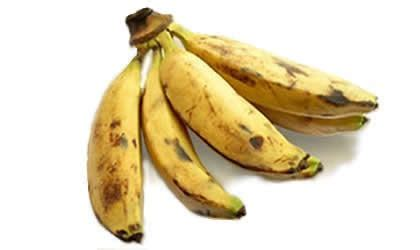banana: (156, 42, 311, 176), (172, 29, 381, 122), (141, 57, 247, 223), (84, 54, 148, 246)
